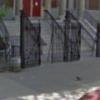stairs: (25, 9, 66, 62)
